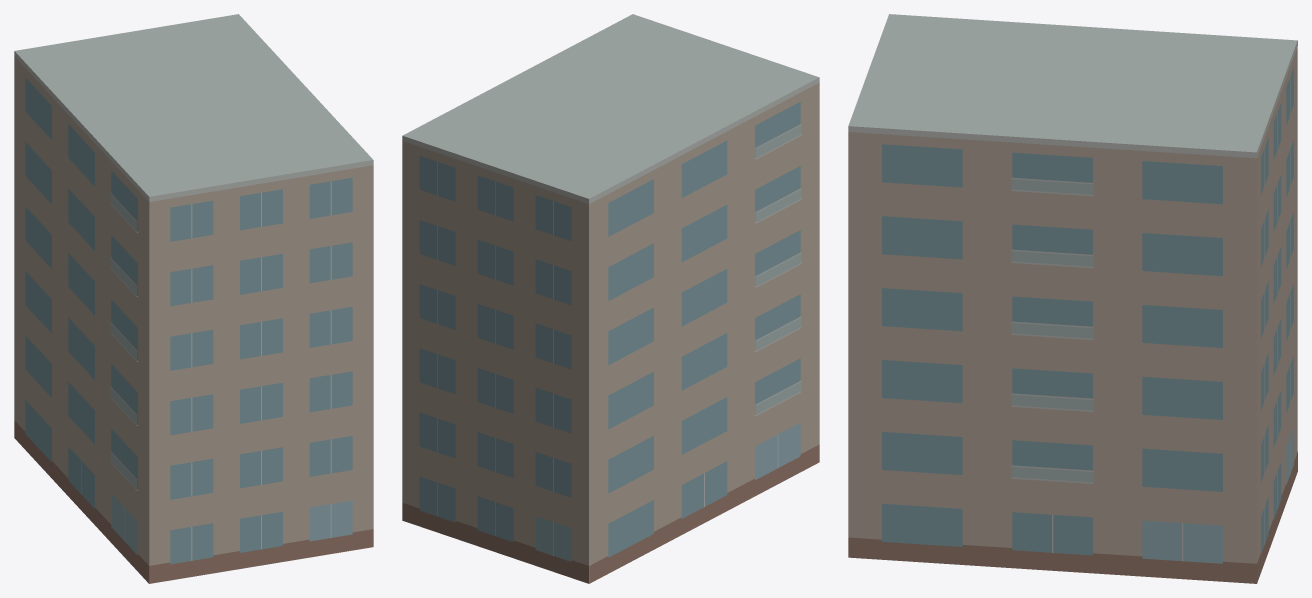
File: survey-upis-32670836.glb
3 views of the same model, side by side, from view 1: azimuth 30°, elevation 25°; view 2: azimuth 150°, elevation 25°; view 3: azimuth 270°, elevation 25° (orthographic). The views are drawn at different scales.
Parts seen in each view (by area): view 1: survey-upis-32670836.tmp; view 2: survey-upis-32670836.tmp; view 3: survey-upis-32670836.tmp.
Boxes of the visible parts, x1=… form: survey-upis-32670836.tmp: x1=14, y1=14, x2=373, y2=583; survey-upis-32670836.tmp: x1=402, y1=14, x2=819, y2=583; survey-upis-32670836.tmp: x1=848, y1=14, x2=1297, y2=583.
Size of the model in its own units: 12.4 by 18 by 17.
